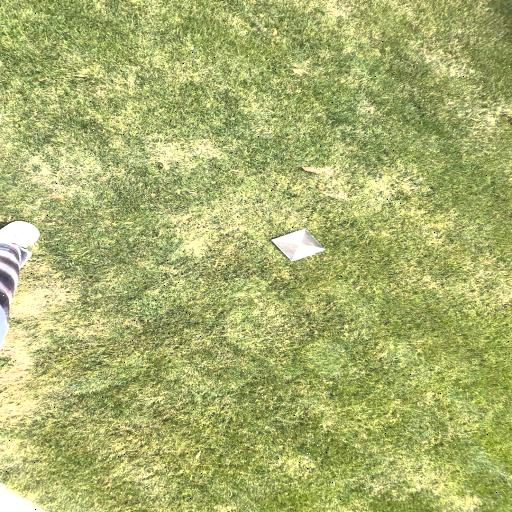target: (272, 229, 325, 261)
